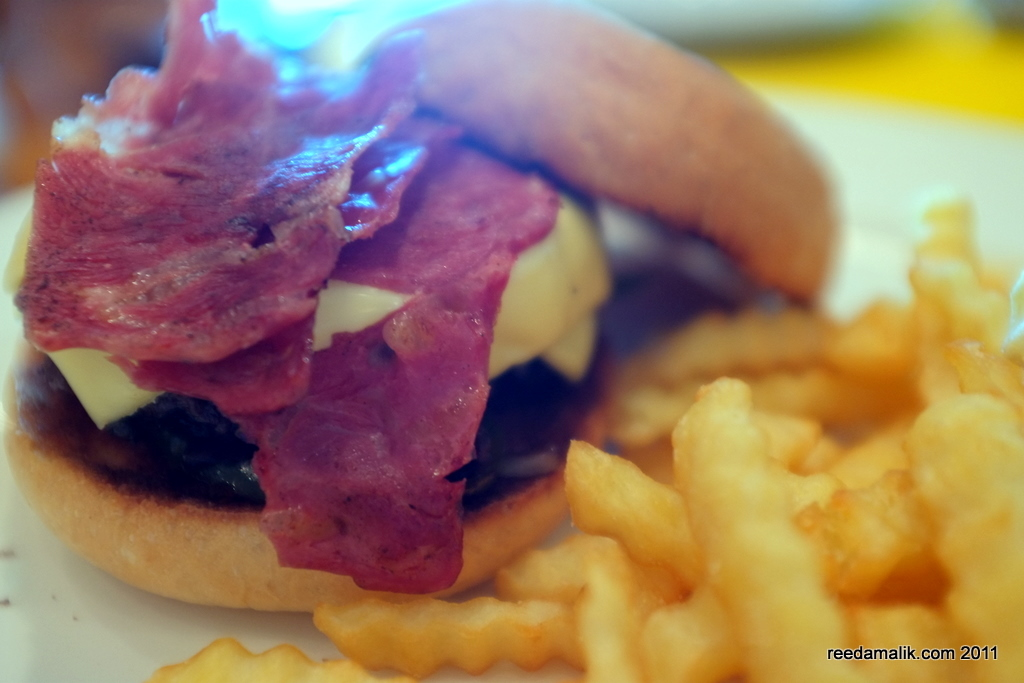French fries: (154, 206, 1022, 675)
